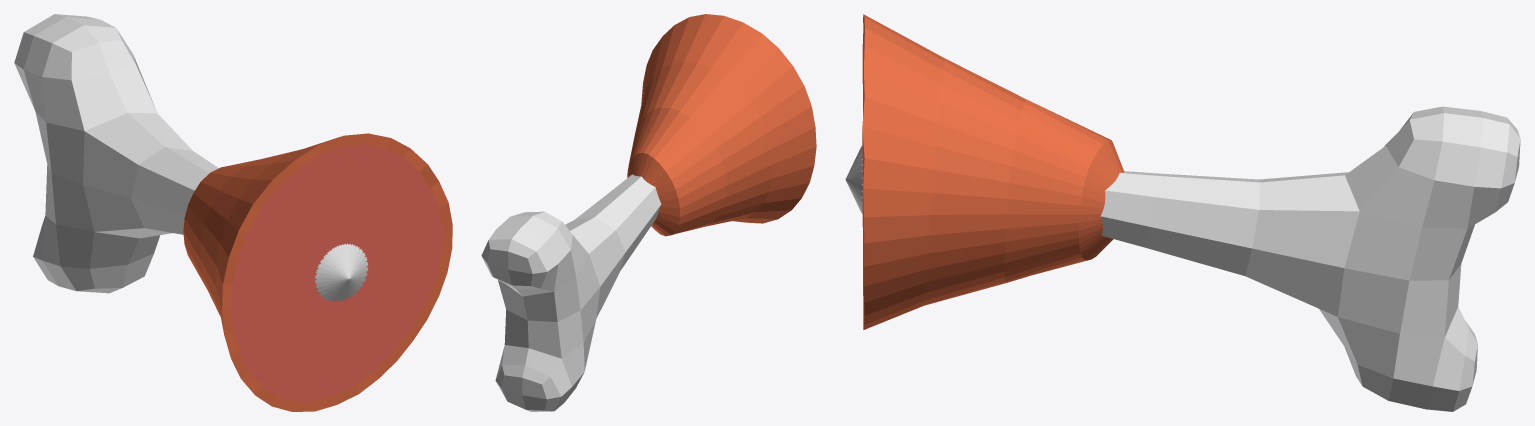
Rendered from ChikenRight.fbx.
3 views of the same model, side by side, from view 1: azimuth 30°, elevation 25°; view 2: azimuth 150°, elevation 25°; view 3: azimuth 270°, elevation 25° (orthographic). The views are drawn at different scales.
Parts seen in each view (by area): view 1: Сфера.001, Цилиндр; view 2: Сфера.001, Цилиндр; view 3: Цилиндр, Сфера.001.
Boxes of the visible parts, x1=… form: Сфера.001: x1=183, y1=133, x2=452, y2=411; Цилиндр: x1=14, y1=14, x2=368, y2=301; Сфера.001: x1=627, y1=14, x2=816, y2=236; Цилиндр: x1=481, y1=174, x2=661, y2=411; Цилиндр: x1=845, y1=106, x2=1520, y2=411; Сфера.001: x1=862, y1=14, x2=1124, y2=329.
Bounding box in the file's own units: 92.54 × 129 × 208.
